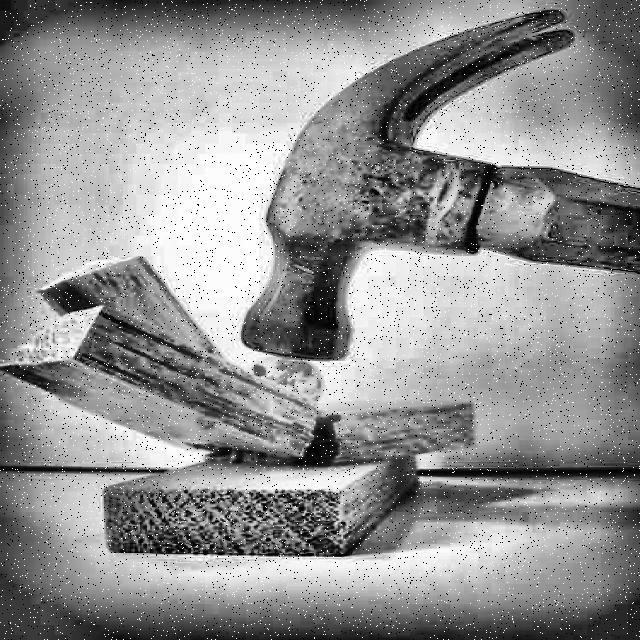hammer: (237, 5, 640, 357)
